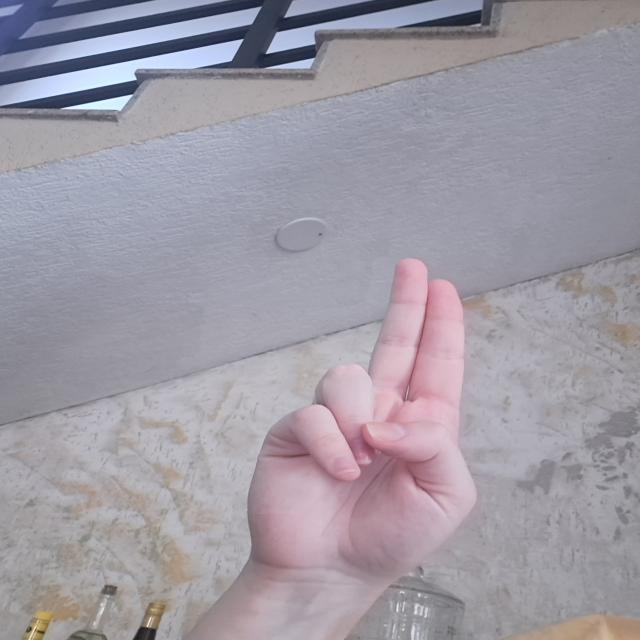U: (194, 243, 492, 584)
